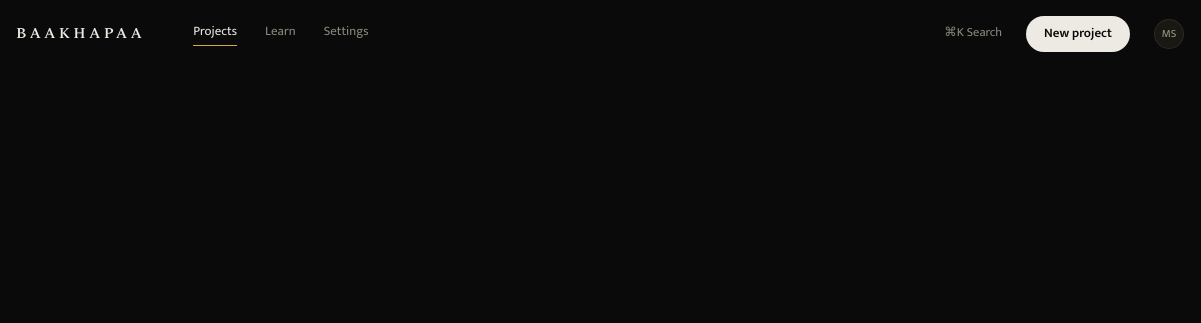
Test: the account button › opens a menu rather than acting immediately
The image size is (1201, 323).
What coordinates should you click on to do the following:
click the button "MS"
I would click on:
 (1169, 34)
Its box is top-left (1154, 19), bottom-right (1184, 49).
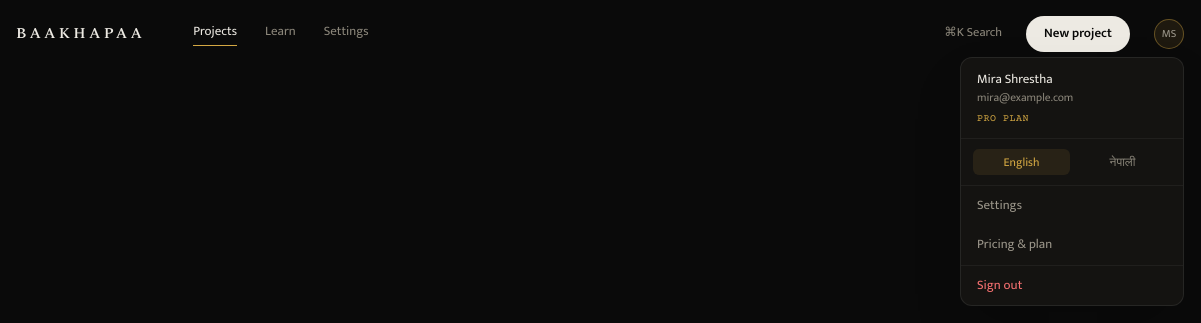
Now the button "MS" is expanded, box top-left (1154, 19), bottom-right (1184, 49)
Now the menu is shown, box top-left (960, 57), bottom-right (1184, 306)
